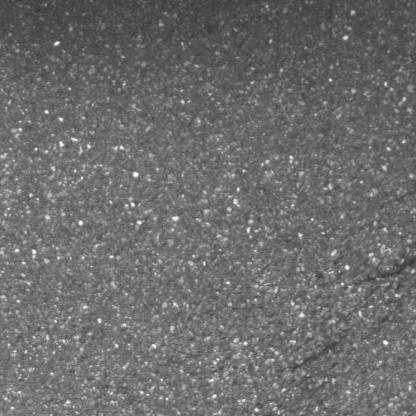Cracks: (272, 327, 355, 378), (349, 244, 416, 293)
